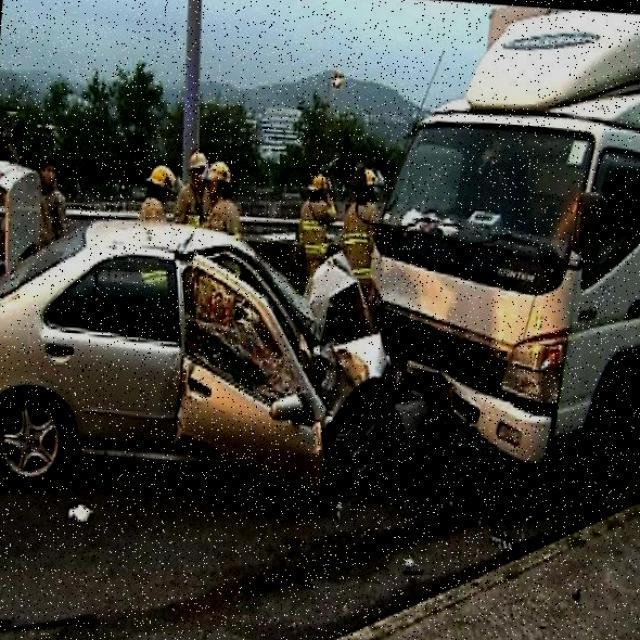accident: (159, 206, 584, 526)
